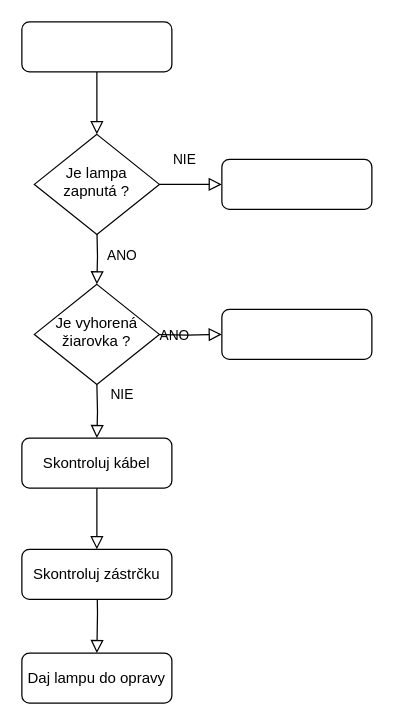
Some shapes in this 394 by 725 pixel diagram are drawn without their labels. The centre of each missing label's shape, as x and y in pixels:
"Lampa nefunguje" belongs at (x=96, y=46).
"Vymeň žiarovku" belongs at (x=296, y=333).
"Zapni lampu" belongs at (x=296, y=183).
